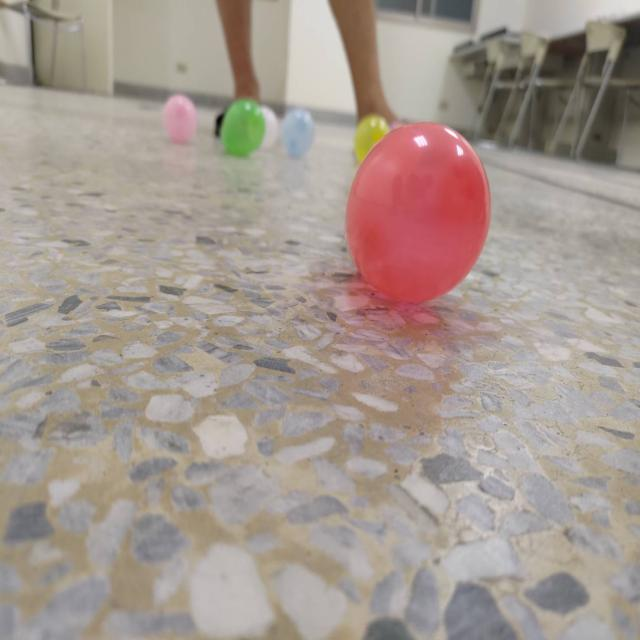other: (220, 100, 264, 157), (353, 114, 391, 164), (164, 92, 196, 140), (282, 108, 313, 156), (261, 104, 276, 150)
red: (344, 120, 490, 305)
